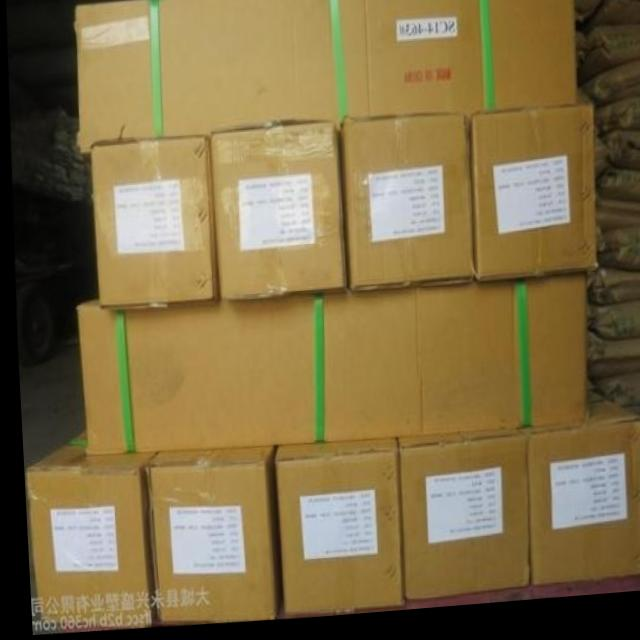box: (74, 281, 582, 456), (74, 0, 573, 151), (20, 428, 153, 626), (465, 94, 594, 289), (512, 397, 640, 592), (207, 130, 343, 304), (140, 448, 274, 624), (336, 123, 470, 294), (270, 445, 397, 618), (392, 436, 522, 605), (90, 139, 213, 308)
